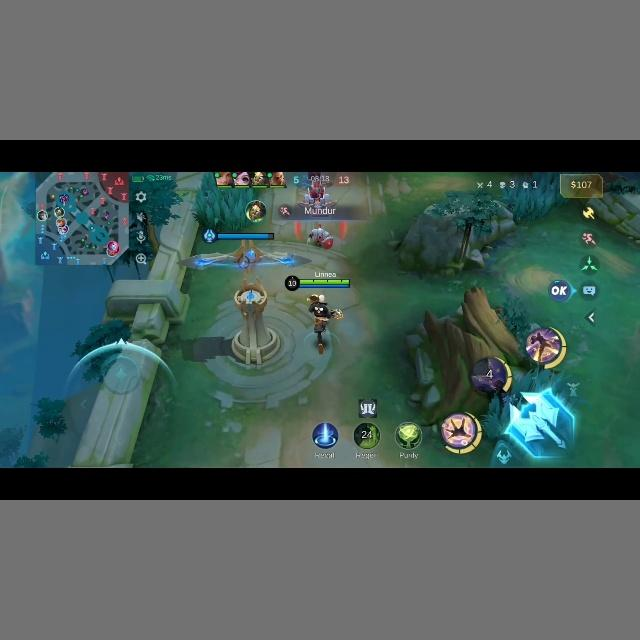hp_self: (286, 276, 352, 290), (213, 232, 274, 241)
minion_enemy: (304, 178, 332, 207), (307, 224, 333, 247)
